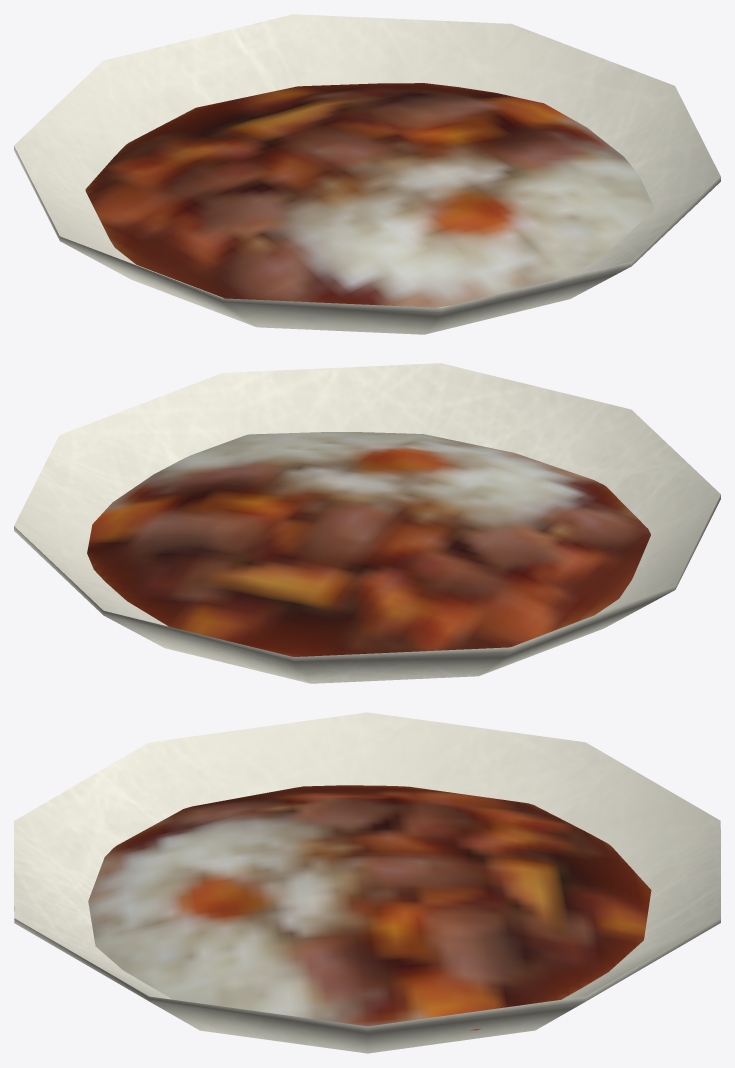
Rendered from dinerfoods06.fbx.
3 renders of one model, top to bottom at view 1: azimuth 30°, elevation 25°; view 2: azimuth 150°, elevation 25°; view 3: azimuth 270°, elevation 25°, orthographic. The views are drawn at different scales.
Visible parts, largest first — view 1: dinerfoods06; view 2: dinerfoods06; view 3: dinerfoods06.
Boxes of the visible parts, x1,y1,x2,y2 form: dinerfoods06: (14,14,720,334); dinerfoods06: (14,363,720,683); dinerfoods06: (14,712,720,1053).
Bounding box in the file's own units: 27.08 × 2.66 × 25.76.
